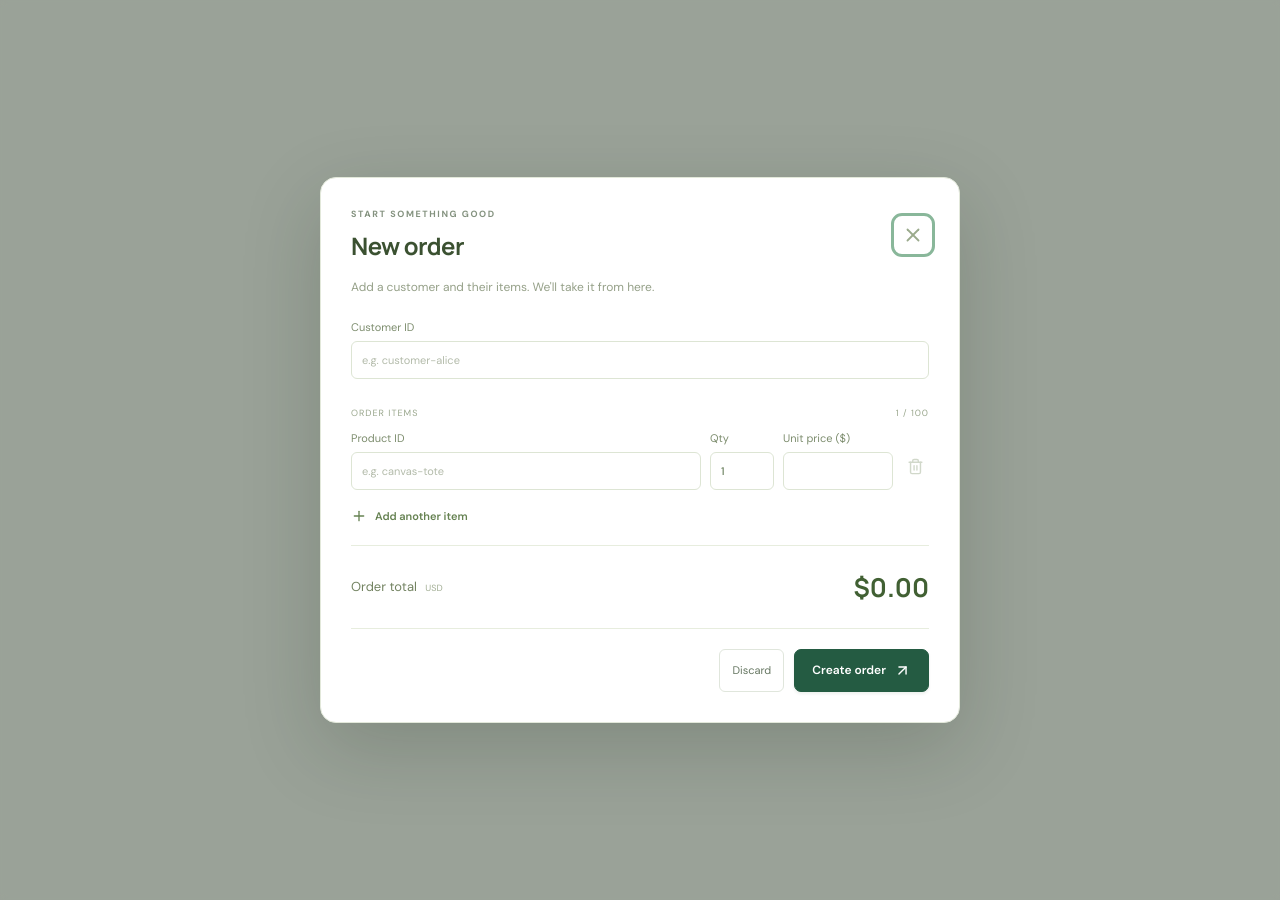
Test: previews a multi-item total
Type "12.50" into the number field named "Price 1". click: (838,471)
box: [783, 452, 893, 490]
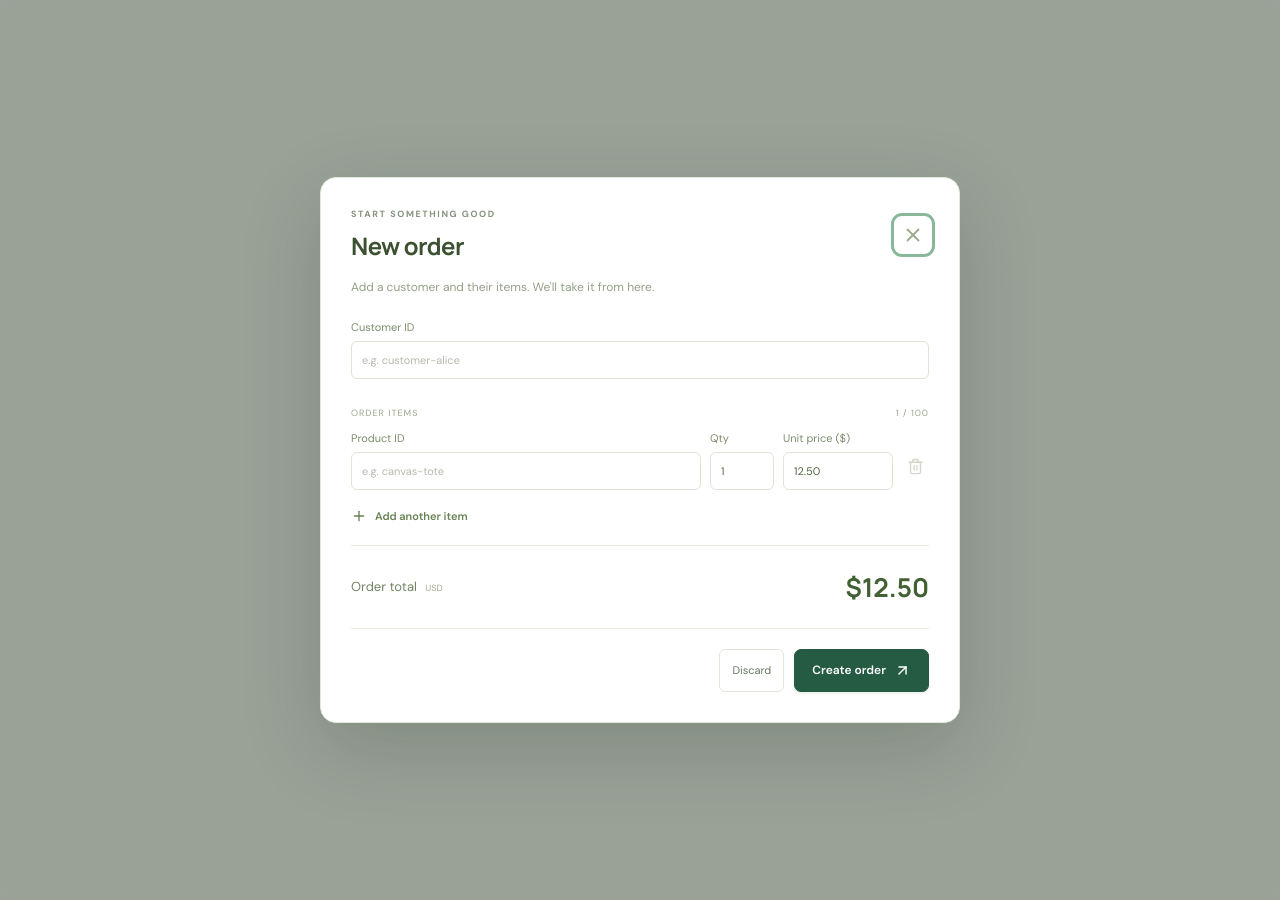
Replace the text in the number field named "Quantity 1" with "2". click: (742,471)
box: [710, 452, 774, 490]
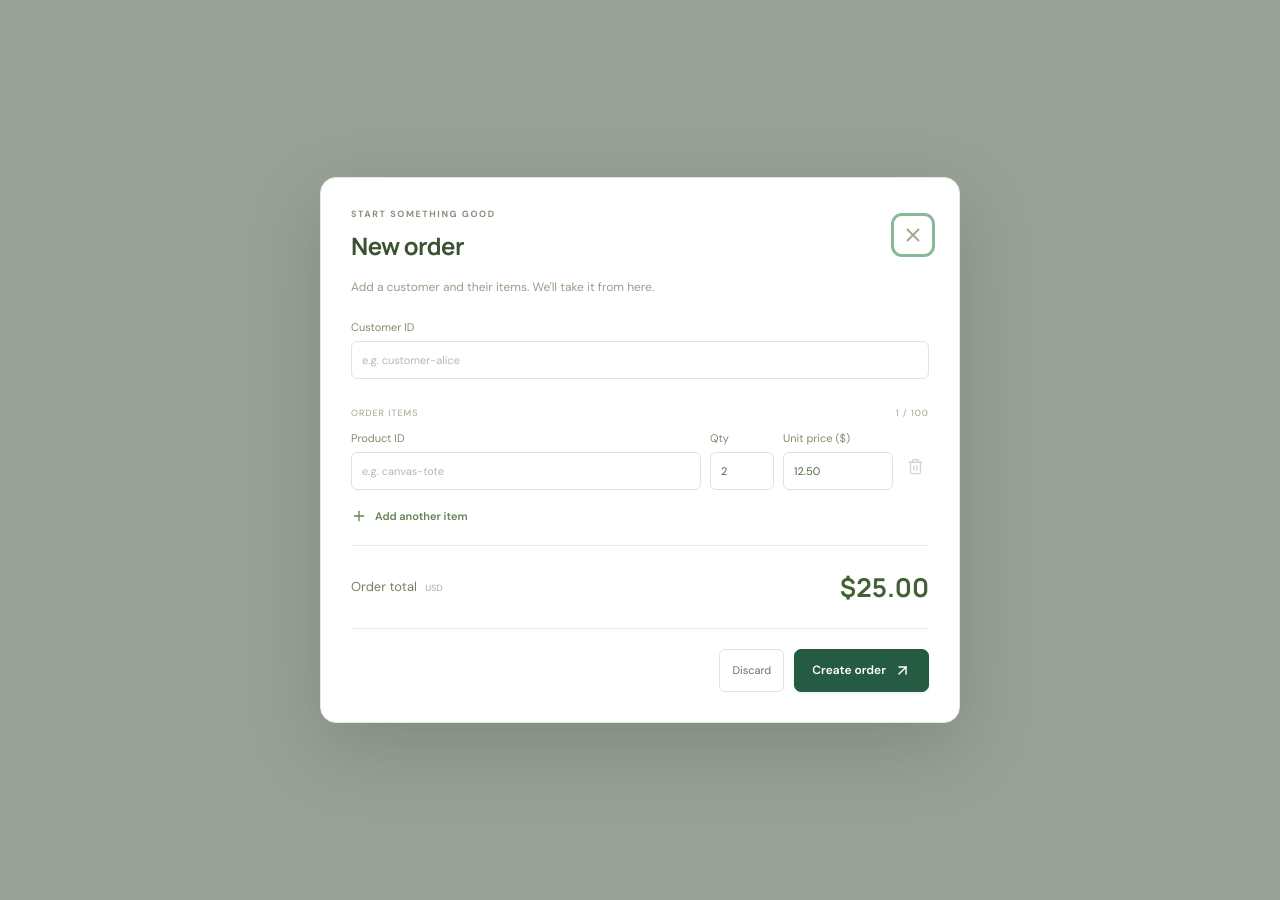
Expected: the text "$25.00" is shown, [840, 569, 929, 605]
